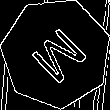M_SE: (22, 19, 90, 88)
